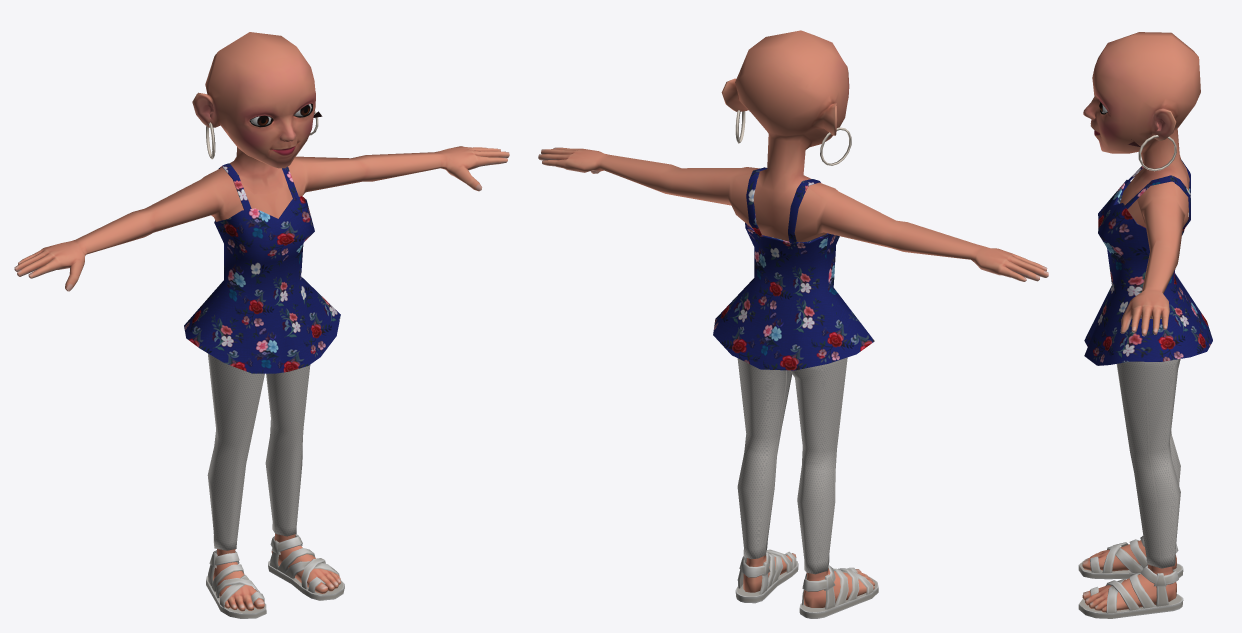
Rendered from Female_Base_LOD_C_Fixed.glb.
The picture shows the model from 3 angles, left to right: view 1: azimuth 30°, elevation 25°; view 2: azimuth 150°, elevation 25°; view 3: azimuth 270°, elevation 25°; orthographic projection. The views are drawn at different scales.
Visible parts, largest first — view 1: Basebody_Geo, Dress_01_Geo, Trouser_01_Geo, L_Shoe_01_Geo, R_Shoe_01_Geo; view 2: Basebody_Geo, Dress_01_Geo, Trouser_01_Geo, R_Shoe_01_Geo, L_Shoe_01_Geo; view 3: Basebody_Geo, Dress_01_Geo, Trouser_01_Geo, L_Shoe_01_Geo, R_Shoe_01_Geo, L_Ear_rings_01_Geo.
Part boxes in pixels (x1,y1,x2,y2): Basebody_Geo: [14, 32, 509, 611]; Dress_01_Geo: [184, 163, 340, 373]; Trouser_01_Geo: [207, 353, 310, 550]; L_Shoe_01_Geo: [268, 534, 344, 600]; R_Shoe_01_Geo: [206, 550, 266, 618]; Basebody_Geo: [538, 30, 1048, 607]; Dress_01_Geo: [713, 167, 874, 370]; Trouser_01_Geo: [737, 357, 847, 574]; R_Shoe_01_Geo: [799, 565, 878, 618]; L_Shoe_01_Geo: [735, 549, 798, 603]; Basebody_Geo: [1082, 32, 1200, 612]; Dress_01_Geo: [1084, 159, 1212, 365]; Trouser_01_Geo: [1116, 359, 1180, 568]; L_Shoe_01_Geo: [1078, 564, 1183, 618]; R_Shoe_01_Geo: [1078, 536, 1183, 579]; L_Ear_rings_01_Geo: [1138, 135, 1176, 171].
Size of what is drawn, in the model's own units: 1.53 by 1.67 by 0.3996.
Materials: 8 (8 with a texture image).
